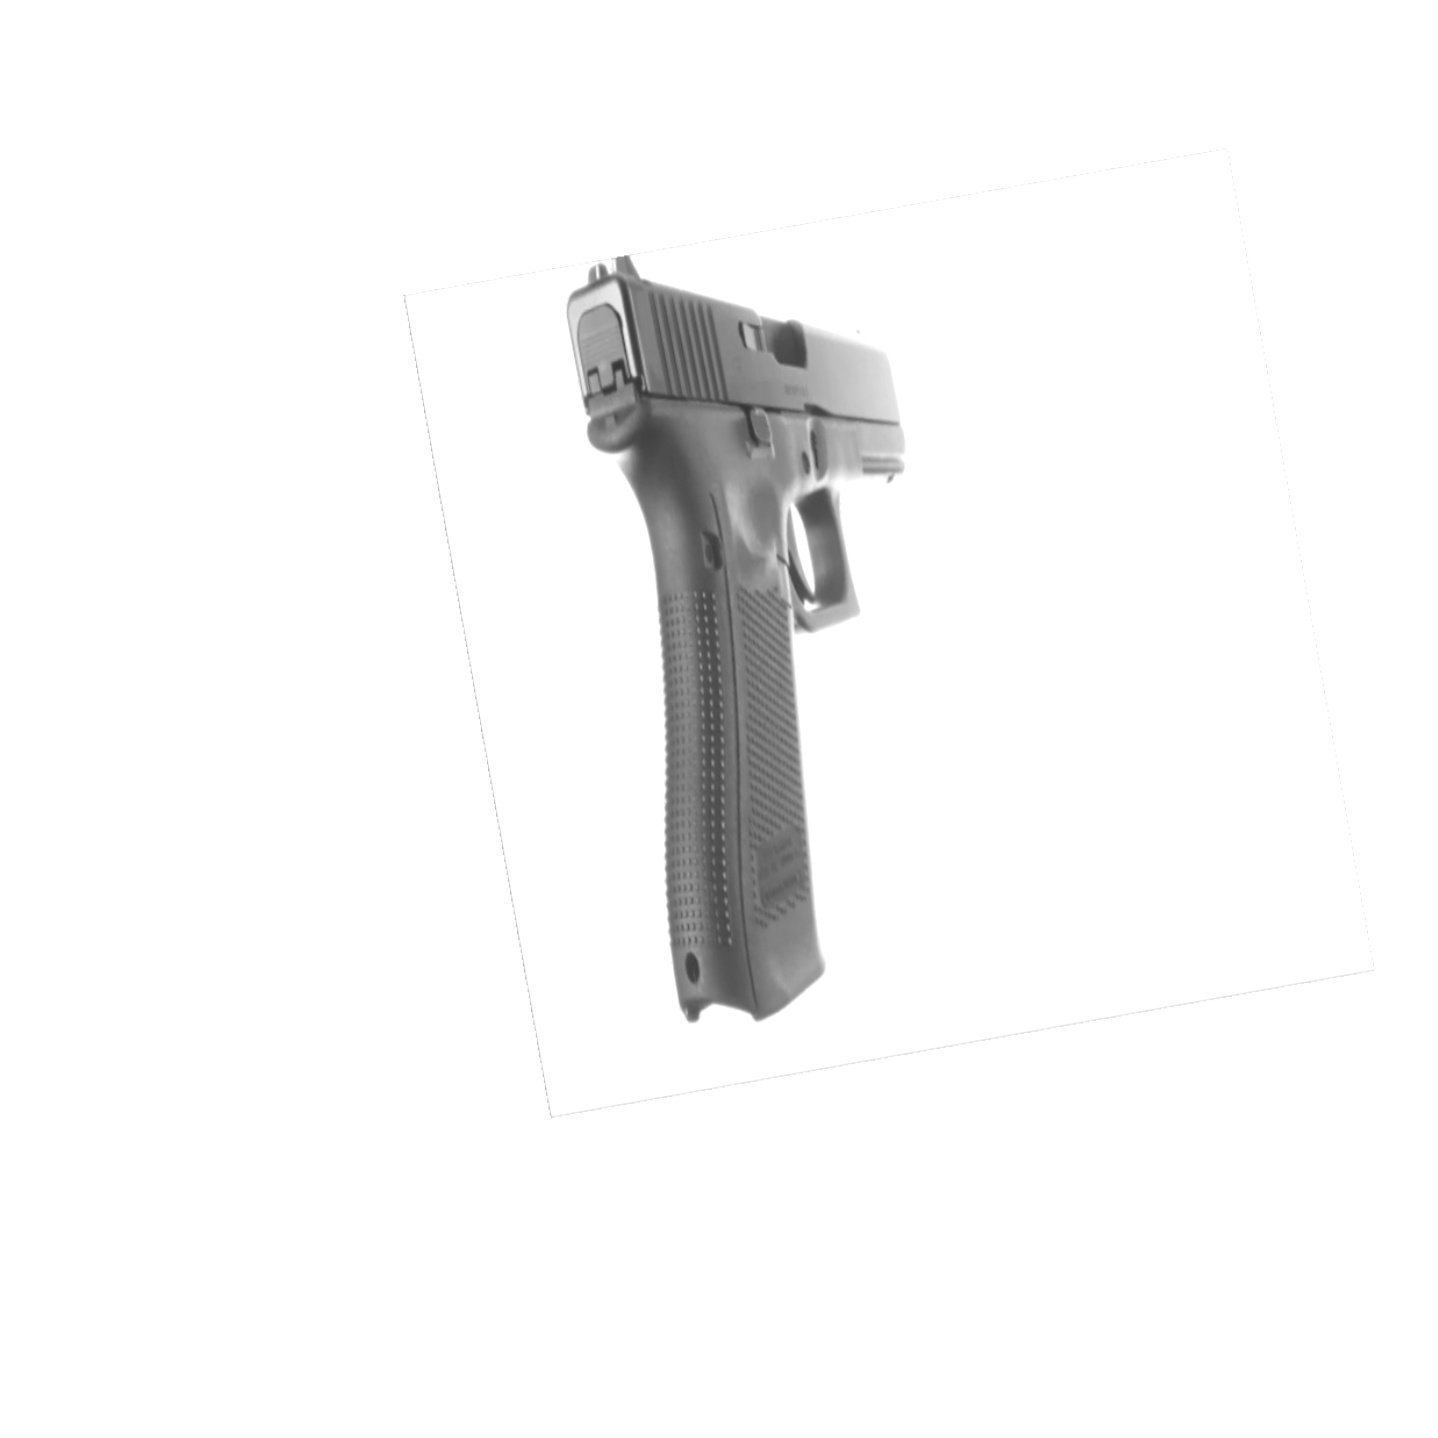gun: (564, 253, 909, 1019)
